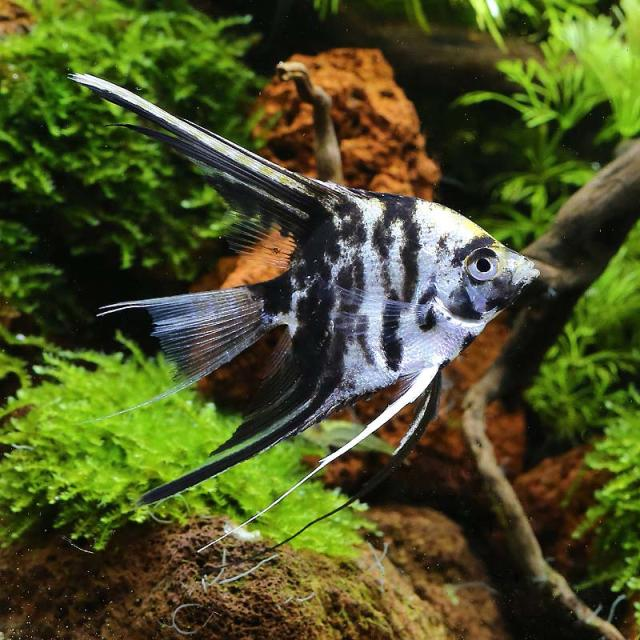AngelFish: (71, 46, 546, 564)
